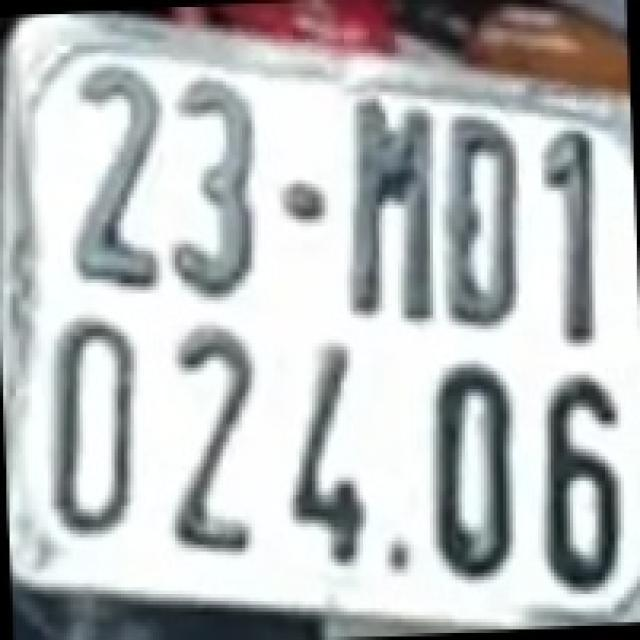0: (51, 318, 137, 538), (433, 361, 516, 580)
1: (538, 127, 605, 343)
2: (172, 322, 258, 558), (74, 64, 162, 290)
3: (172, 78, 258, 297)
4: (290, 339, 370, 566)
6: (544, 371, 621, 587)
B: (442, 113, 522, 329)
M: (348, 90, 438, 324)
